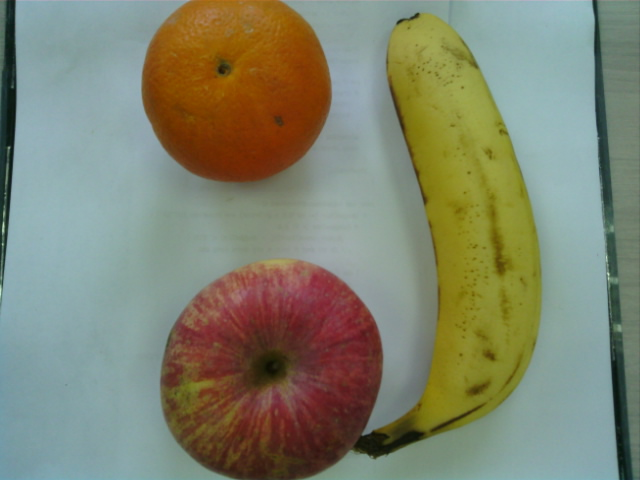normal_apple: (159, 257, 383, 480)
normal_banana: (383, 17, 548, 449)
normal_orange: (143, 1, 334, 186)
